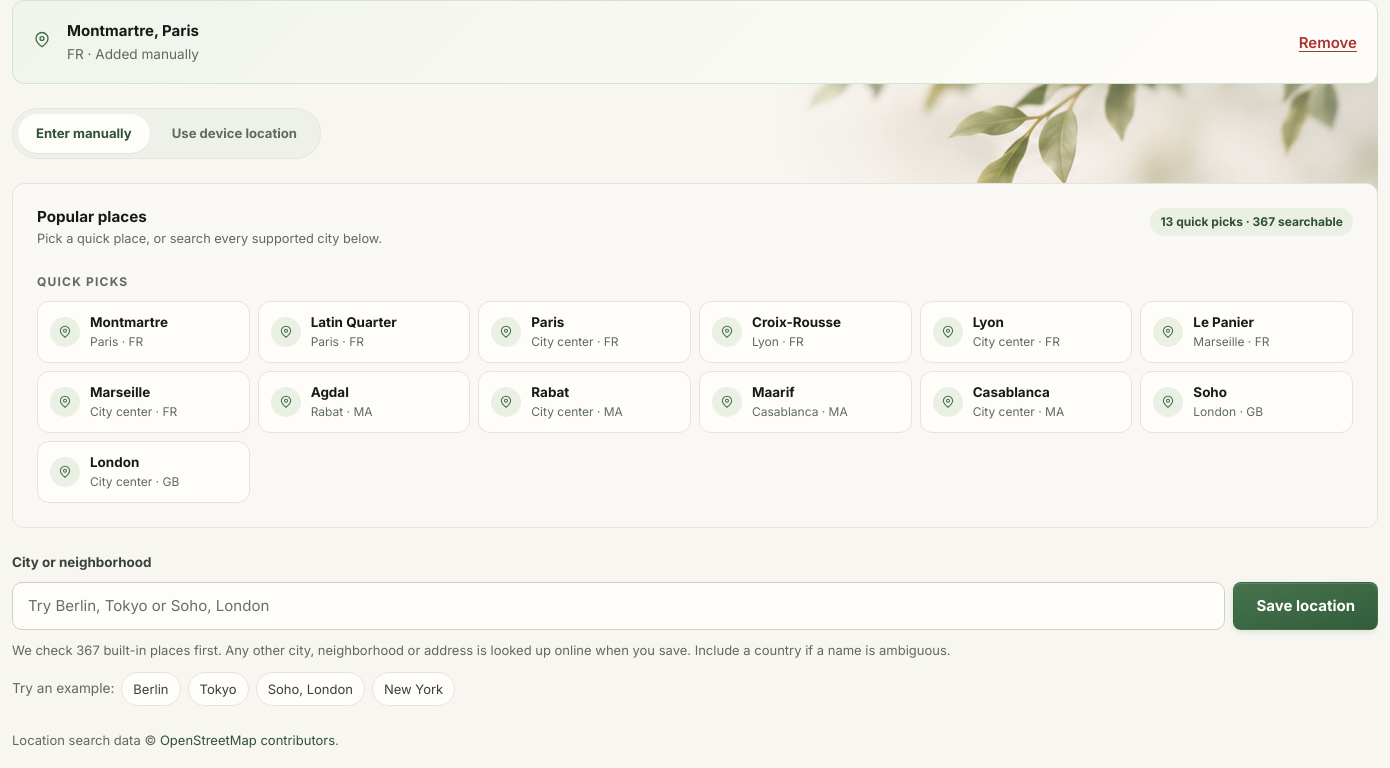
Scenario: form city confirm requires an explicit choice
Click the tab "Use device location" at x=234, y=133, box [154,114,315,153]
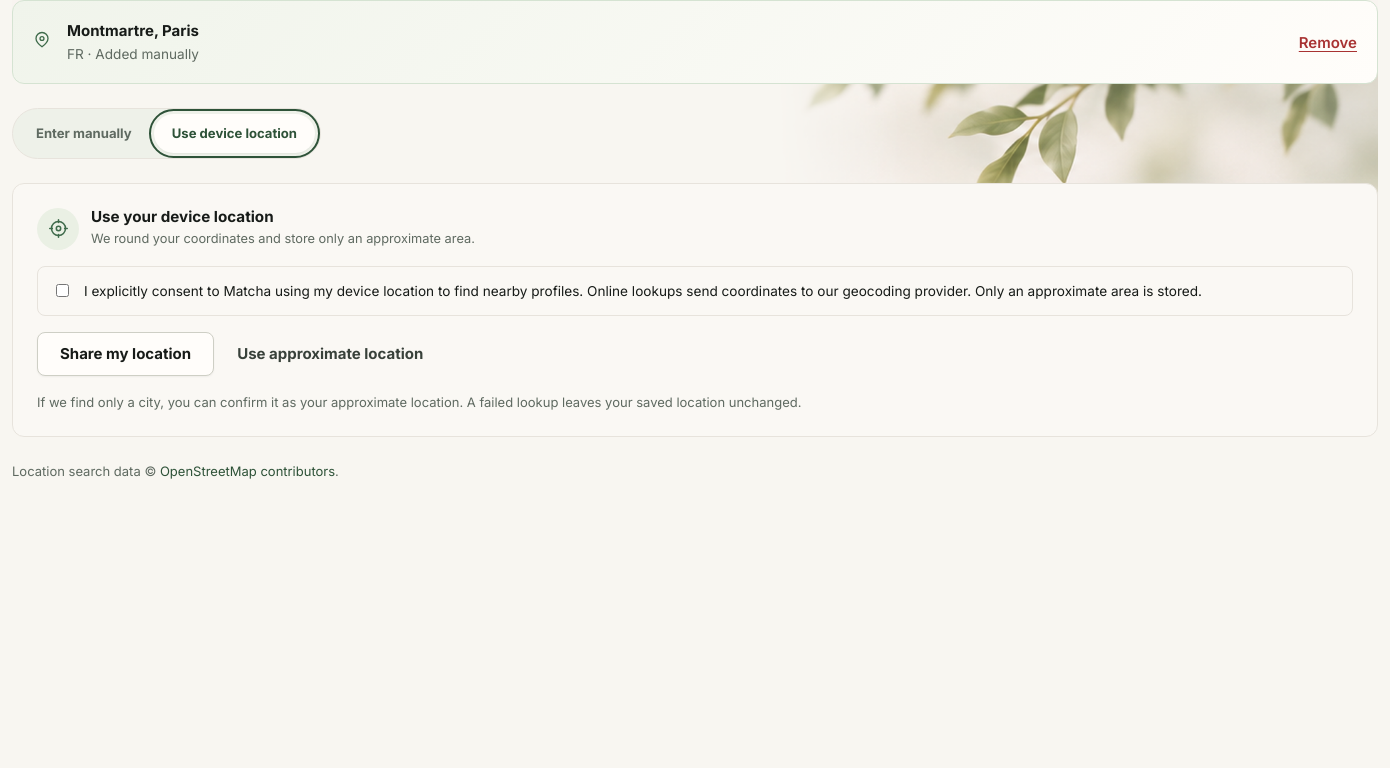
Click the checkbox at x=62, y=290, box [56,284,69,297]
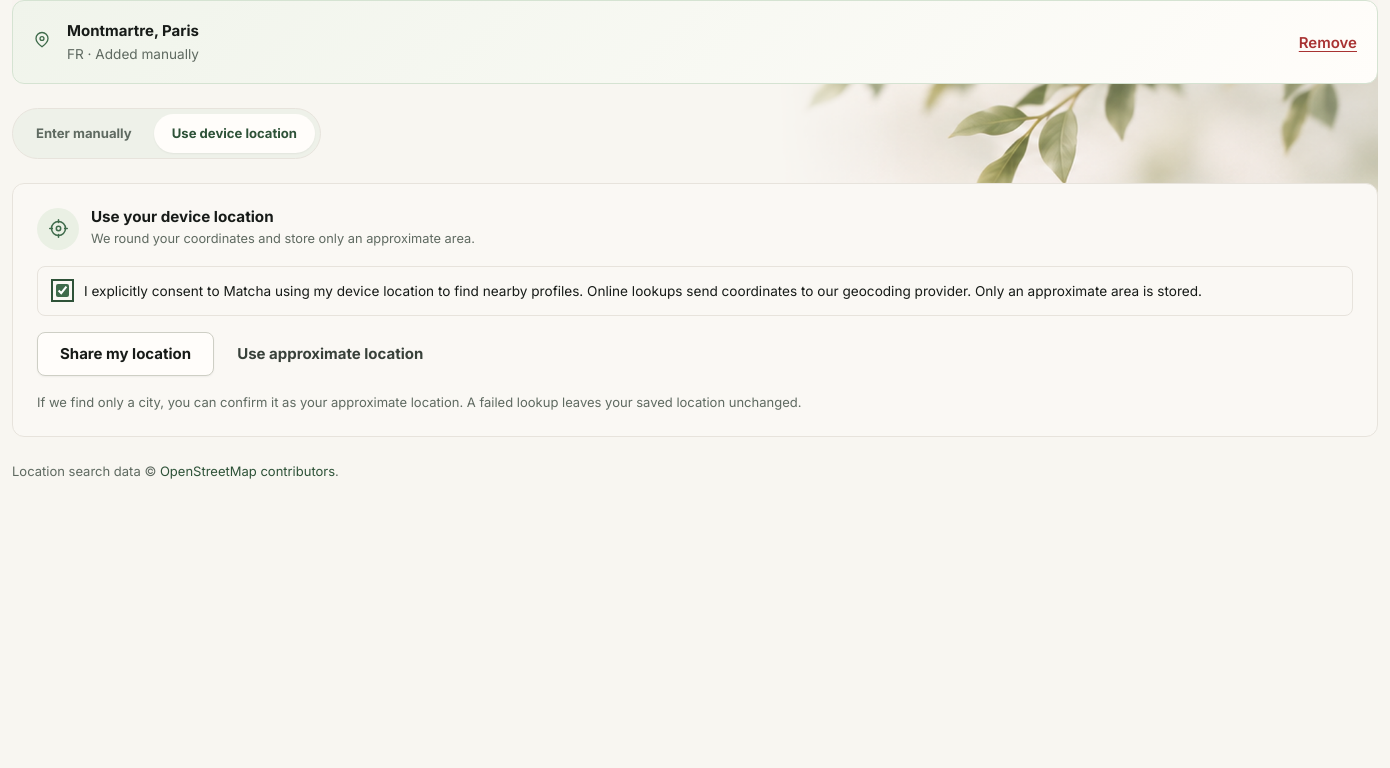
Click the button "Use approximate location" at x=330, y=354, box [214,332,446,376]
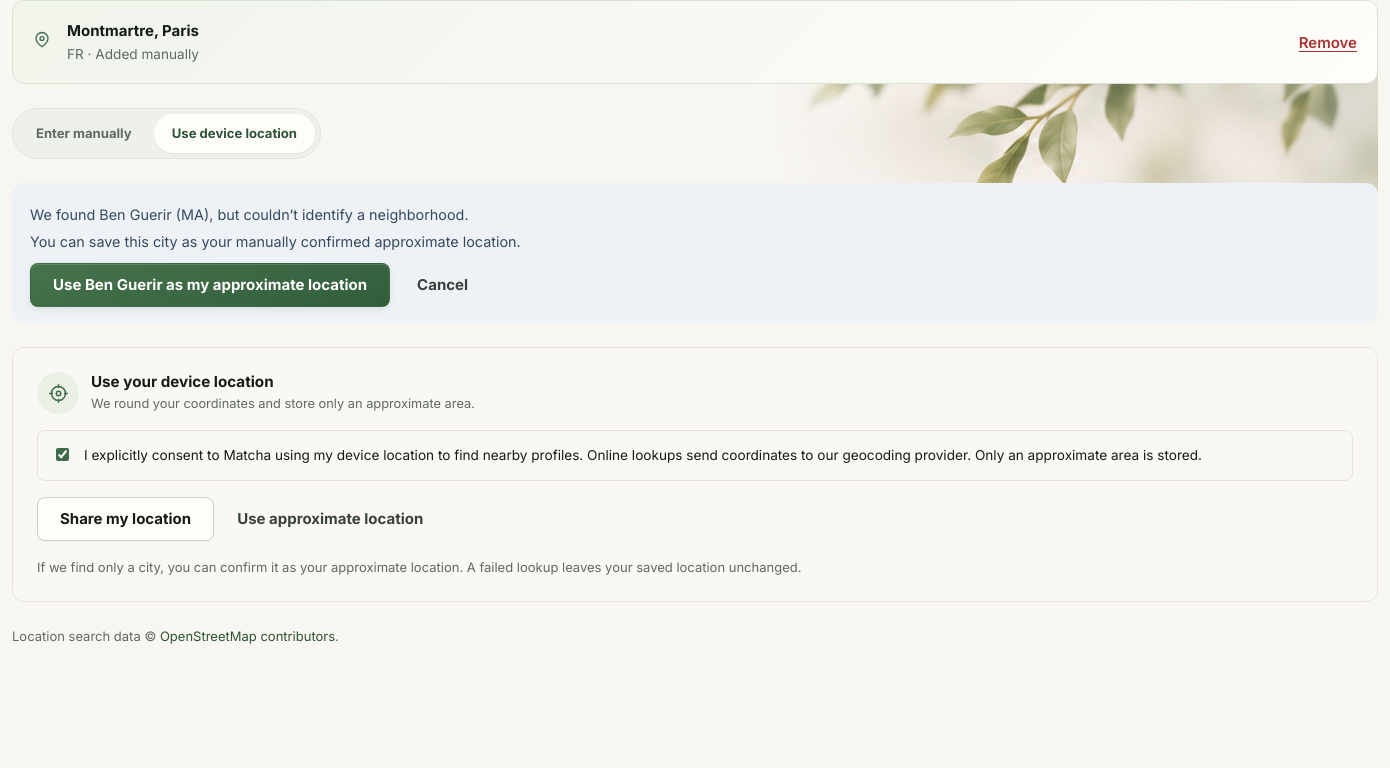
Click the button "Use Ben Guerir as my approximate location" at x=210, y=285, box [30,263,390,307]
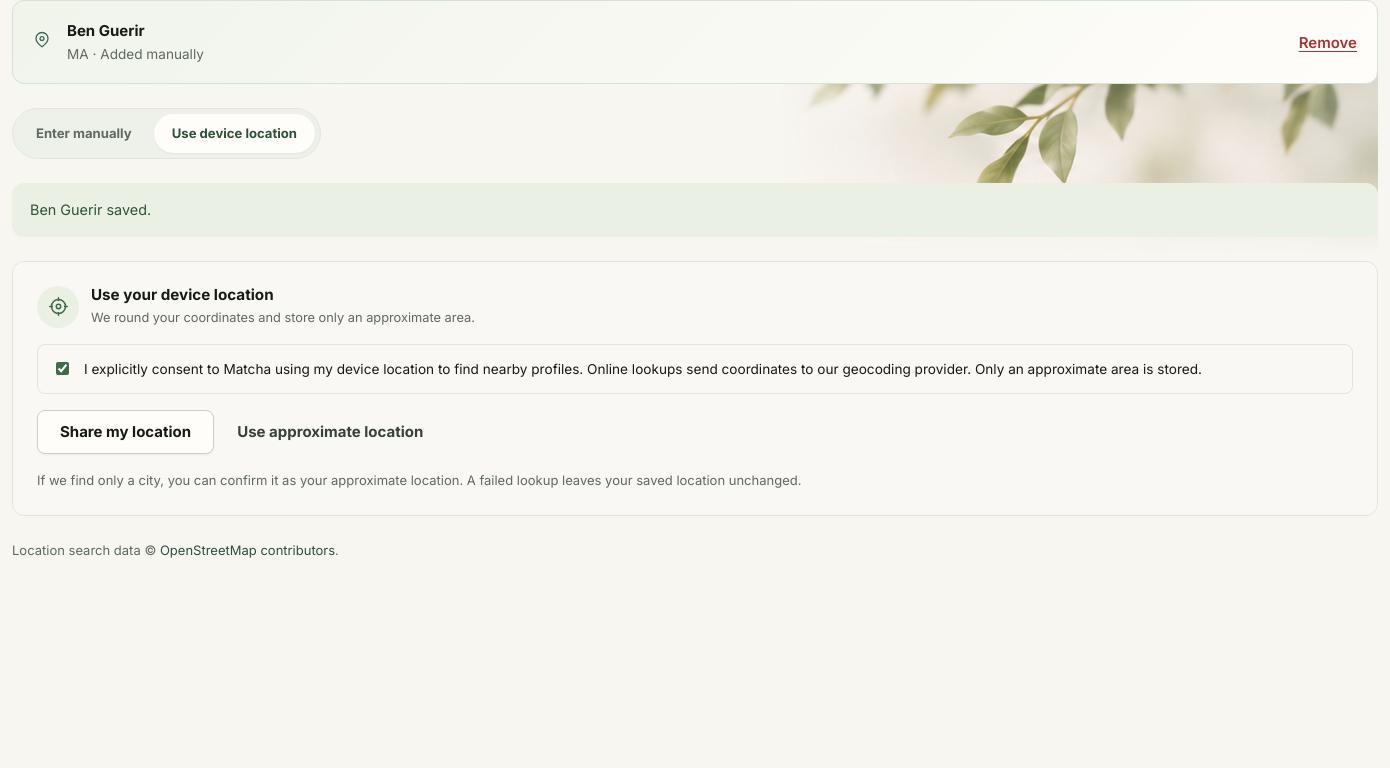
Expected: the text "Added manually" is shown, [100,46,204,62]
Now the button "Use Ben Guerir as my approximate location" is gone
